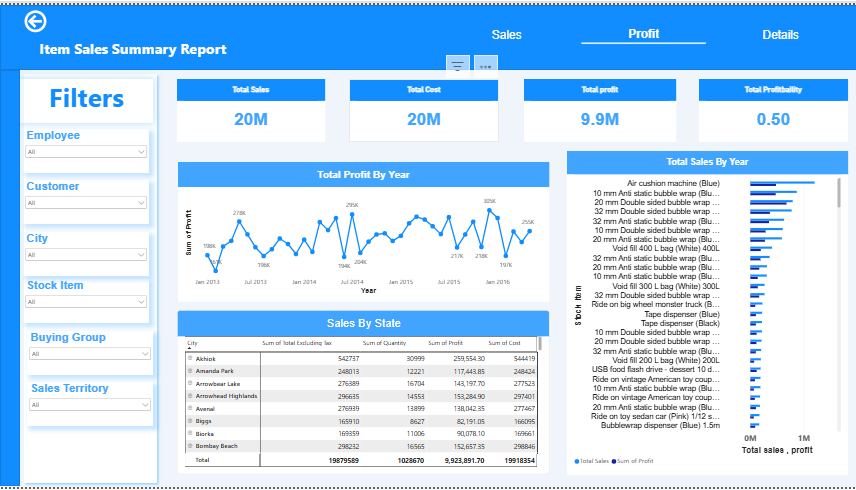

This screenshot's page, from the dashboard's own definition file:
{"tool":"powerbi","page":{"name":"Profit","canvas":[1920,1080],"ordinal":1},"visuals":[{"type":"pivotTable","title":"Sales By State","fields":{"Rows":["DimCity.City","DimCity.State Province"],"Values":["Sum(FactSale.Total Excluding Tax)","Sum(FactSale.Quantity)","Sum(FactSale.Profit)","Sum(FactSale.Cost)"]},"box":[395.7,683,835,368.3],"z":0},{"type":"card","title":"Total Sales","fields":{"Values":["Sum(FactSale.Total Excluding Tax)"]},"box":[396.6,165.8,331.6,141.2],"z":1000},{"type":"shape","box":[0,0,1920.2,145.6],"z":2000},{"type":"shape","box":[44.8,145.6,315.9,934.4],"z":3000},{"type":"slicer","fields":{"Values":["DimEmpolyee.Employee"]},"box":[51.1,278.7,283,97.9],"z":4000},{"type":"textbox","box":[44.8,165.8,298,98.6],"z":5000},{"type":"shape","box":[0,145.6,44.8,932.1],"z":6000},{"type":"textbox","box":[44.8,73.9,506.4,47.1],"z":7000},{"type":"card","title":"Total Profitbaility","fields":{"Values":["FactSale.Profitbaility"]},"box":[1566.2,165.8,333.9,141.2],"z":8000},{"type":"card","title":"Total profit","fields":{"Values":["Sum(FactSale.Profit)"]},"box":[1174.1,165.8,340.6,141.2],"z":9000},{"type":"card","title":"Total Cost","fields":{"Values":["Sum(FactSale.Cost)"]},"box":[782,165.8,336.1,141.2],"z":10000},{"type":"clusteredBarChart","title":" Total Sales By Year","fields":{"Category":["DimStockItem.Stock Item"],"Y":["Sum(FactSale.Total Excluding Tax)","Sum(FactSale.Profit)"]},"box":[1270.5,327.1,629.6,726],"z":11000},{"type":"lineChart","title":" Total Profit By Year","fields":{"Category":["DimData.Date.Variation.Date Hierarchy.Year","DimData.Date.Variation.Date Hierarchy.Quarter","DimData.Date.Variation.Date Hierarchy.Month","DimData.Date.Variation.Date Hierarchy.Day"],"Y":["Sum(FactSale.Profit)"]},"box":[397.9,351.1,831.9,312.8],"z":12000},{"type":"slicer","fields":{"Values":["DimCustomer.Customer"]},"box":[51.1,391.5,283,97.9],"z":13000},{"type":"slicer","fields":{"Values":["DimCity.City"]},"box":[51.1,508.5,283,97.9],"z":14000},{"type":"slicer","fields":{"Values":["DimStockItem.Stock Item"]},"box":[51.1,614.9,283,97.9],"z":15000},{"type":"slicer","fields":{"Values":["DimCustomer.Buying Group"]},"box":[59.6,729.8,283,97.9],"z":16000},{"type":"slicer","fields":{"Values":["DimCity.Sales Territory"]},"box":[59.6,844.7,283,97.9],"z":17000},{"type":"actionButton","box":[0,0,159.6,72.3],"z":18000},{"type":"pageNavigator","box":[985.1,36.2,914.9,61.7],"z":19000}]}

Visuals, with their boxes in screenshot pixels (x1, y1, x2, y2), scaled from the page's 1920x1080 canvas onto the 856x490 screenshot:
"Sales By State" pivotTable: [left=176, top=310, right=549, bottom=477]
"Total Sales" card: [left=177, top=75, right=325, bottom=139]
shape: [left=0, top=0, right=855, bottom=66]
shape: [left=20, top=66, right=161, bottom=489]
slicer - DimEmpolyee.Employee: [left=23, top=126, right=149, bottom=171]
textbox: [left=20, top=75, right=153, bottom=120]
shape: [left=0, top=66, right=20, bottom=489]
textbox: [left=20, top=34, right=246, bottom=55]
"Total Profitbaility" card: [left=698, top=75, right=847, bottom=139]
"Total profit" card: [left=523, top=75, right=675, bottom=139]
"Total Cost" card: [left=349, top=75, right=498, bottom=139]
" Total Sales By Year" clusteredBarChart: [left=566, top=148, right=847, bottom=478]
" Total Profit By Year" lineChart: [left=177, top=159, right=548, bottom=301]
slicer - DimCustomer.Customer: [left=23, top=178, right=149, bottom=222]
slicer - DimCity.City: [left=23, top=231, right=149, bottom=275]
slicer - DimStockItem.Stock Item: [left=23, top=279, right=149, bottom=323]
slicer - DimCustomer.Buying Group: [left=27, top=331, right=153, bottom=376]
slicer - DimCity.Sales Territory: [left=27, top=383, right=153, bottom=428]
actionButton: [left=0, top=0, right=71, bottom=33]
pageNavigator: [left=439, top=16, right=847, bottom=44]
